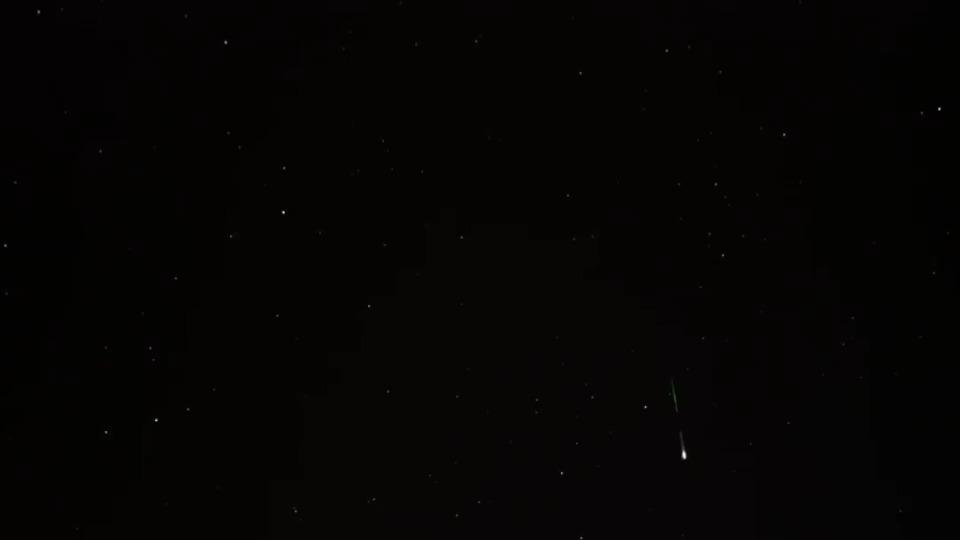meteorite: (666, 368, 692, 477)
